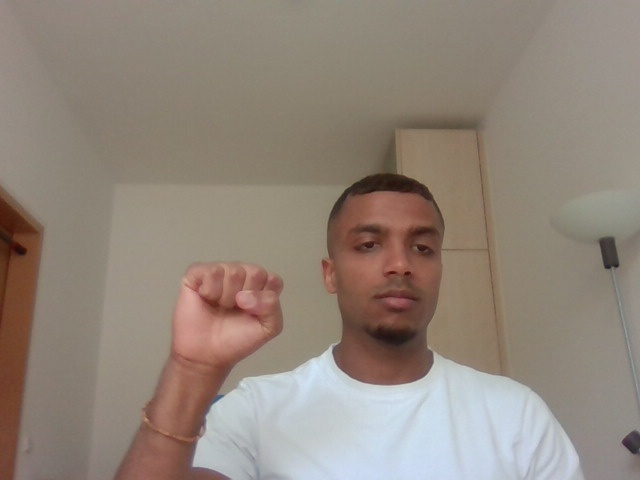maybe: (161, 248, 301, 381)
